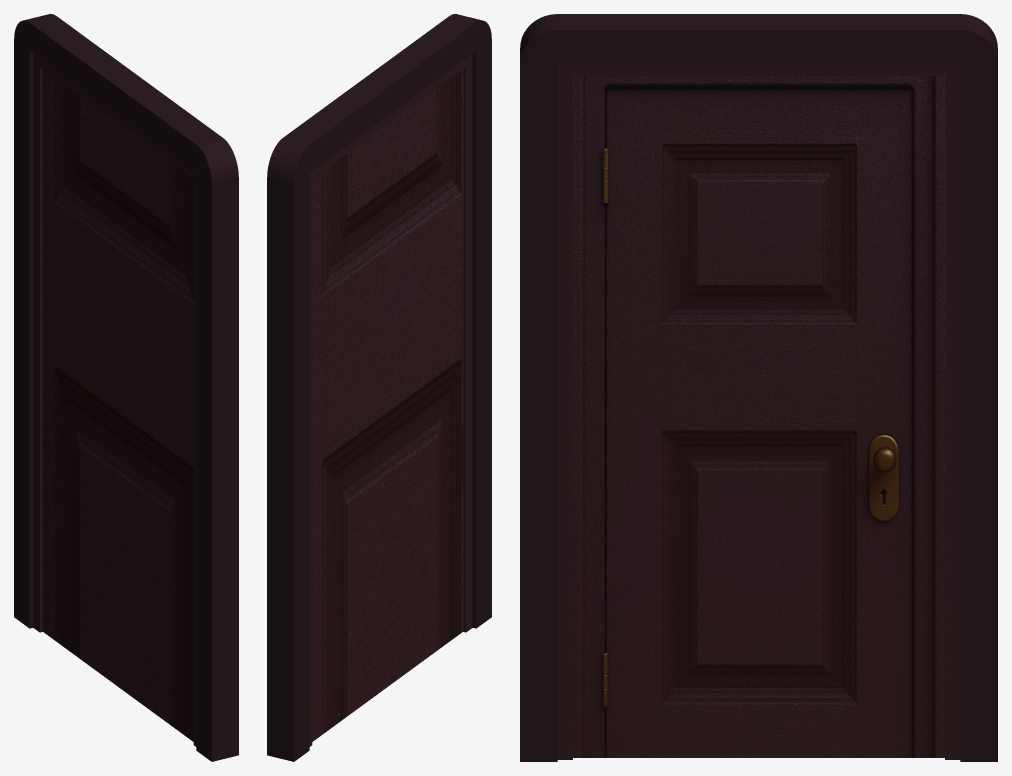
File: puerta.obj
3 views of the same model, side by side, from view 1: azimuth 30°, elevation 25°; view 2: azimuth 150°, elevation 25°; view 3: azimuth 270°, elevation 25° (orthographic). The views are drawn at different scales.
Visible parts, largest first — view 1: Cube.003, Cube.001, Cube.007, Cube.008, Cube.002; view 2: Cube.003, Cube.007, Cube.001, Cube.002, Cube.008; view 3: Cube.003, Cube.007, Cube.001, Cube.008, Cube.002.
Boxes of the visible parts, left/top/right/bottom form: Cube.003: left=42, top=68, right=193, bottom=741; Cube.001: left=100, top=68, right=238, bottom=761; Cube.007: left=14, top=14, right=151, bottom=628; Cube.008: left=33, top=54, right=129, bottom=632; Cube.002: left=104, top=105, right=196, bottom=746; Cube.003: left=312, top=68, right=463, bottom=741; Cube.007: left=267, top=68, right=404, bottom=761; Cube.001: left=355, top=14, right=491, bottom=628; Cube.002: left=376, top=54, right=472, bottom=632; Cube.008: left=309, top=107, right=401, bottom=746; Cube.003: left=573, top=76, right=944, bottom=757; Cube.007: left=729, top=14, right=997, bottom=761; Cube.001: left=520, top=14, right=788, bottom=761; Cube.008: left=728, top=64, right=960, bottom=759; Cube.002: left=557, top=64, right=728, bottom=759.
Bounding box in the file's own units: 1 × 21.44 × 12.68.
Materials: 3 (3 with a texture image).
